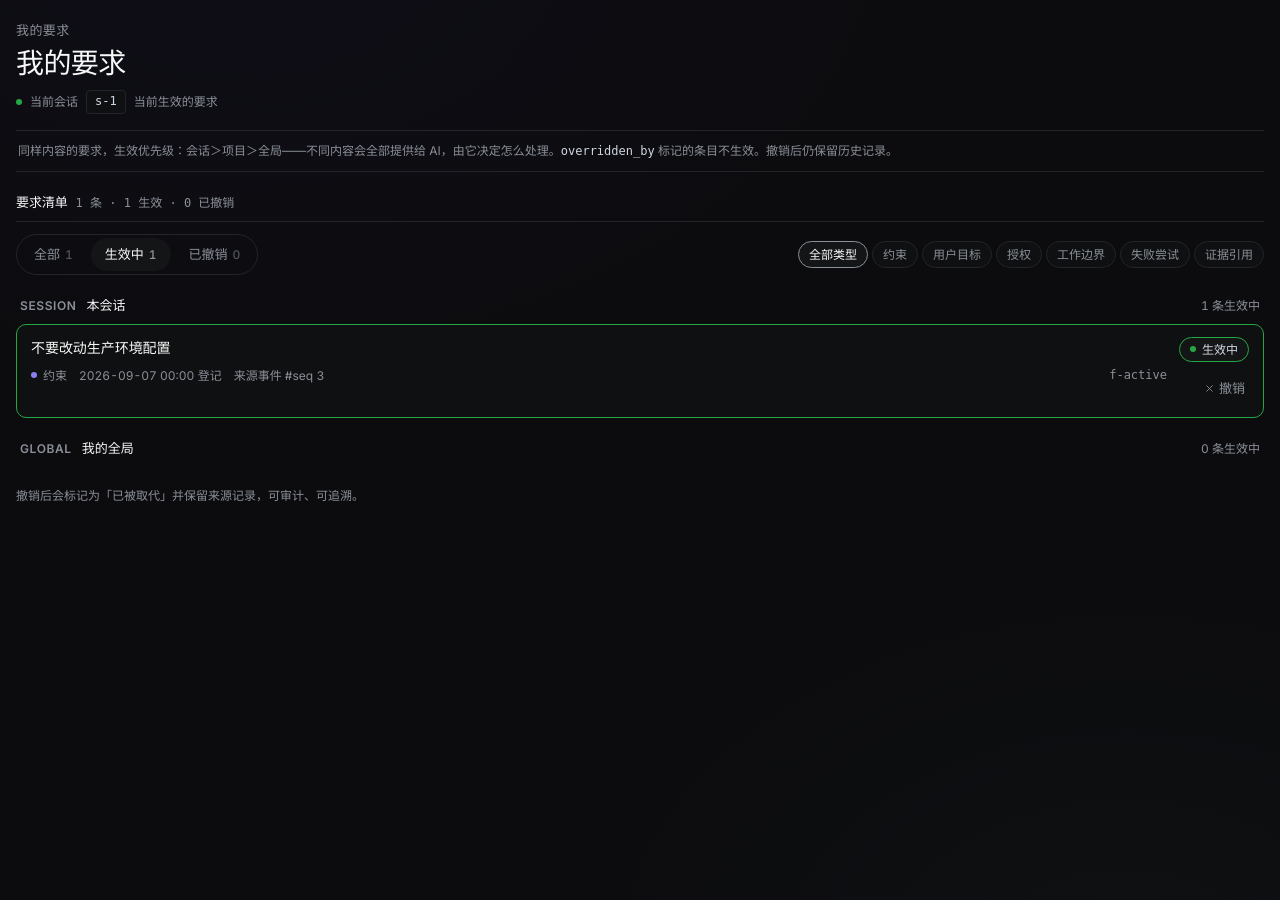
Test case: ConstraintsTab（状态外壳） › 挂载即拉后端投影；撤销走确认 → 重拉对齐（不乐观本地更新）
Note: 点「撤销」→ 二次确认框（不立刻发请求）。
Click the button "撤销": (1224, 388) [1200,372,1249,404]
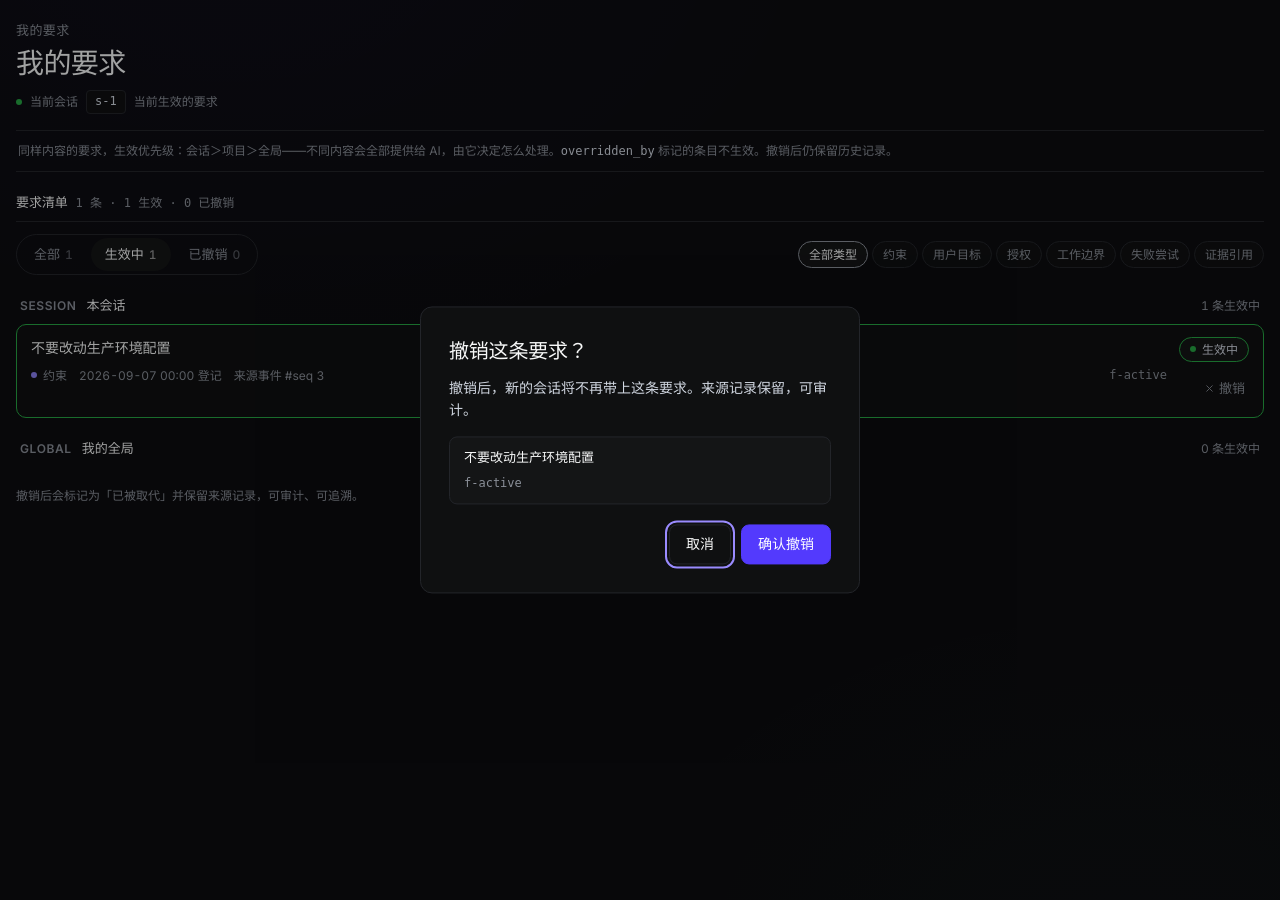
expect the text "撤销这条要求？" is shown: met, box [449,339,588,363]
Note: 确认 → 发请求 + 重拉（第二次 GET）。
Click the button "确认撤销": (786, 544) [741,524,831,565]
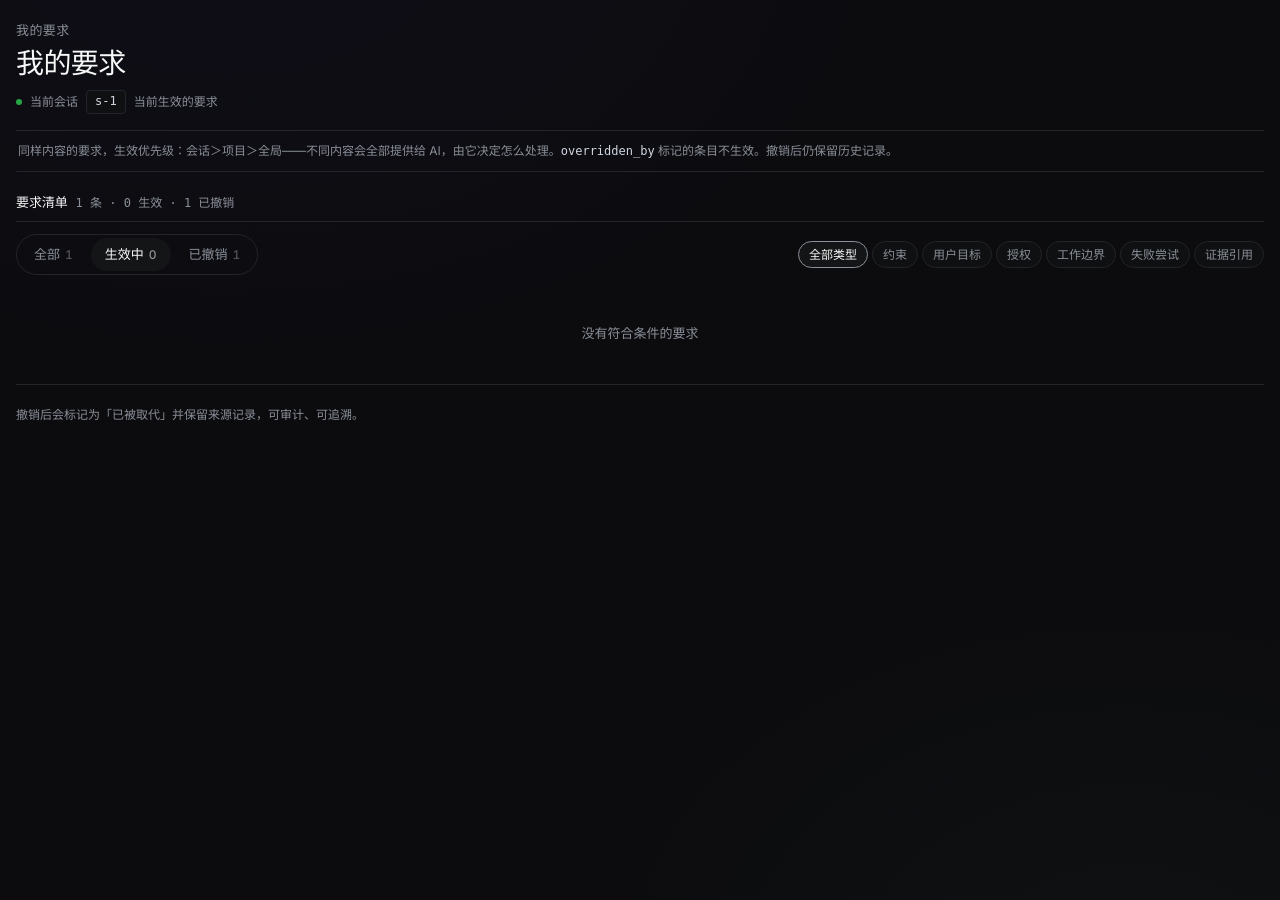
expect the text "不要改动生产环境配置" is gone: met
Click the tab "已撤销1": (214, 254) [175,238,254,271]
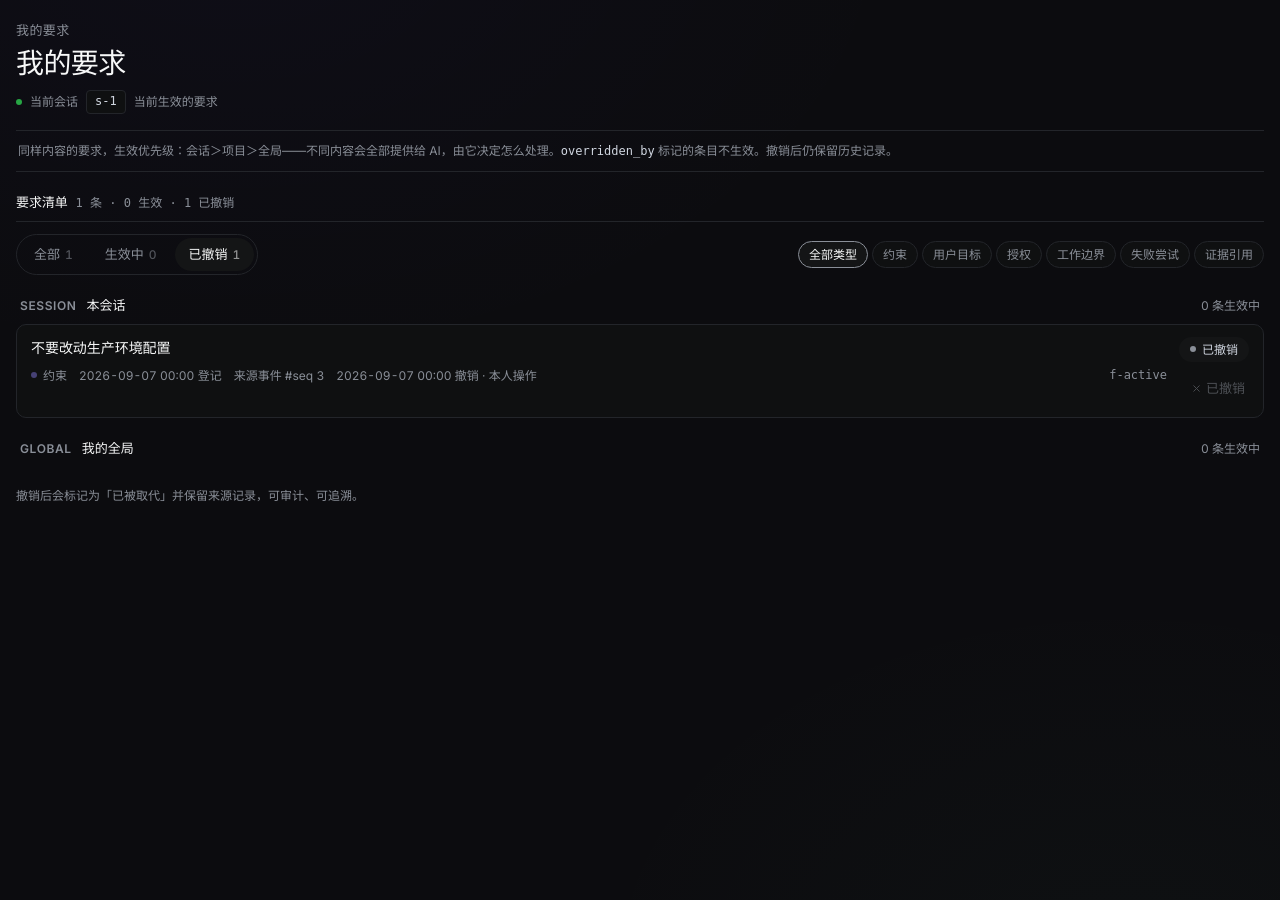
expect the text "不要改动生产环境配置" is shown: met, box [31,338,170,356]
expect the button "已撤销" is disabled: met, box [1187,372,1249,404]
